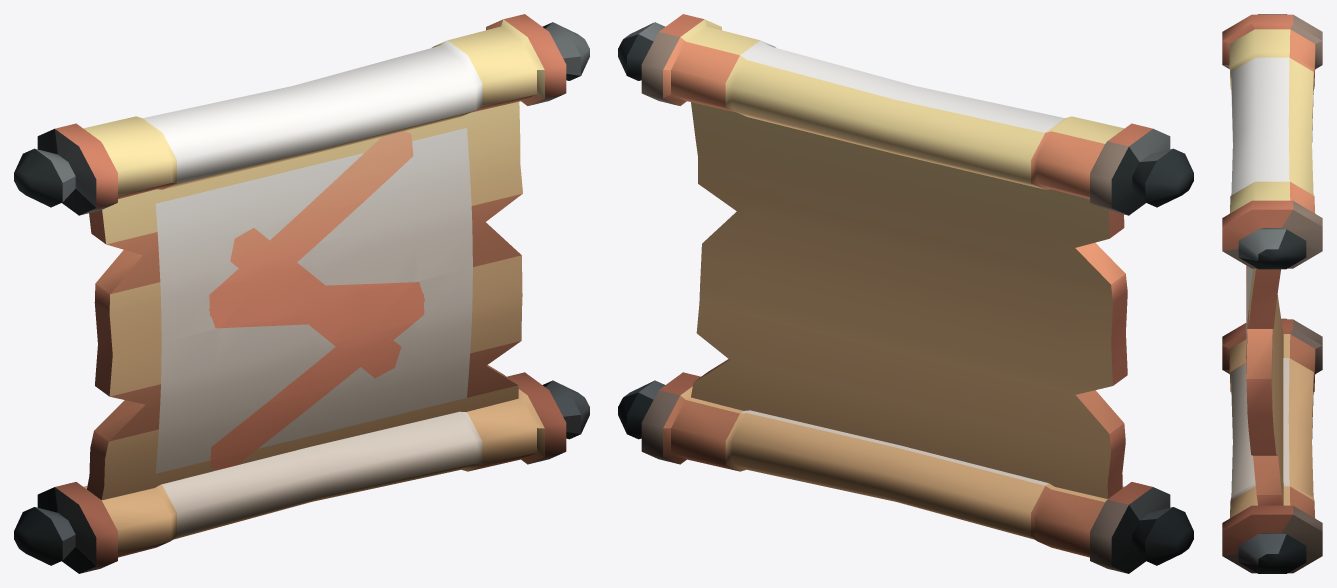
The model's file is scroll_coral_sowilo.glb.
The picture shows the model from 3 angles, left to right: view 1: azimuth 30°, elevation 25°; view 2: azimuth 150°, elevation 25°; view 3: azimuth 270°, elevation 25°; orthographic projection. The views are drawn at different scales.
Parts seen in each view (by area): view 1: Item; view 2: Item; view 3: Item.
Boxes of the visible parts, left/top/right/bottom form: Item: left=14, top=14, right=589, bottom=573; Item: left=618, top=14, right=1193, bottom=573; Item: left=1222, top=14, right=1322, bottom=573.
Bounding box in the file's own units: 0.88 × 0.64 × 0.1596.
2 materials, 2 textured.
